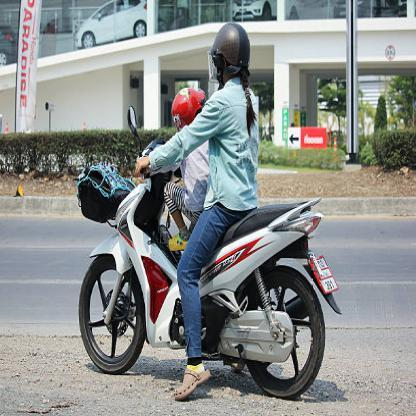Motorcycle: (69, 110, 330, 404)
